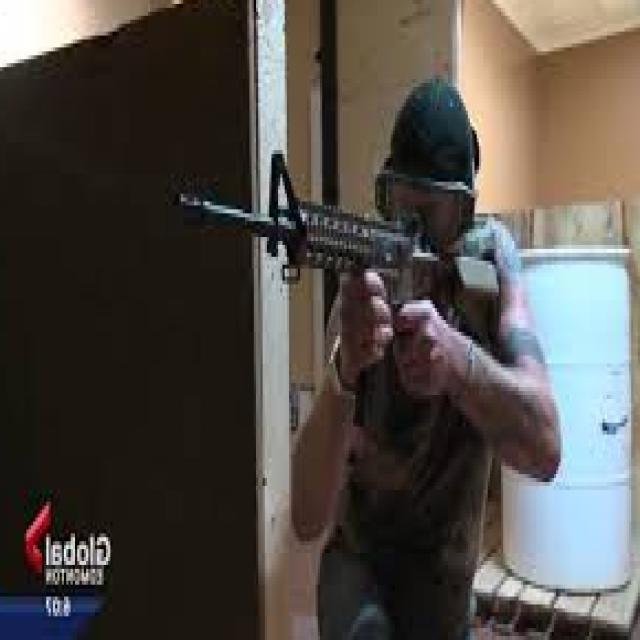gun: (163, 131, 524, 438)
